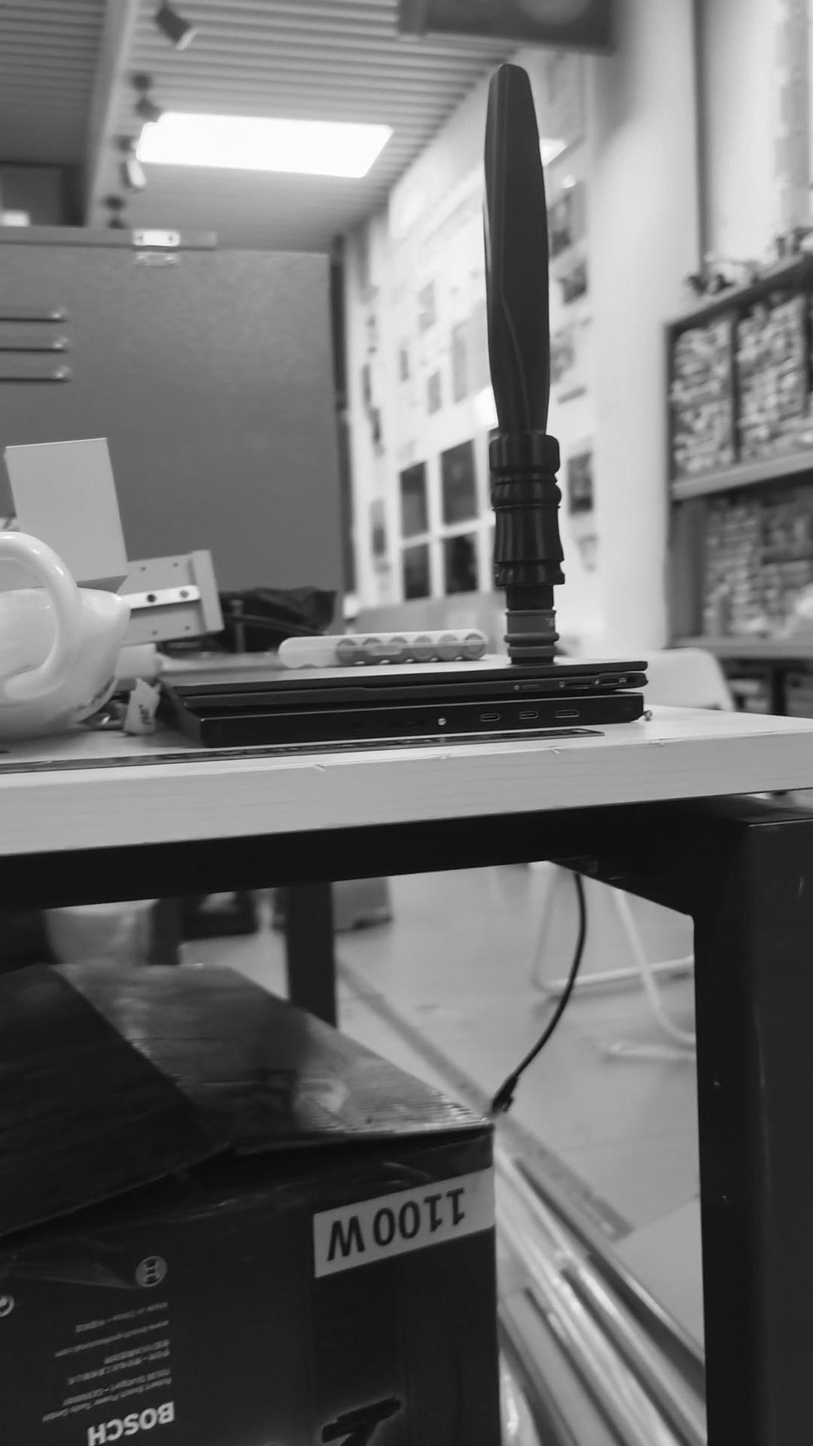base: (499, 611, 567, 683)
